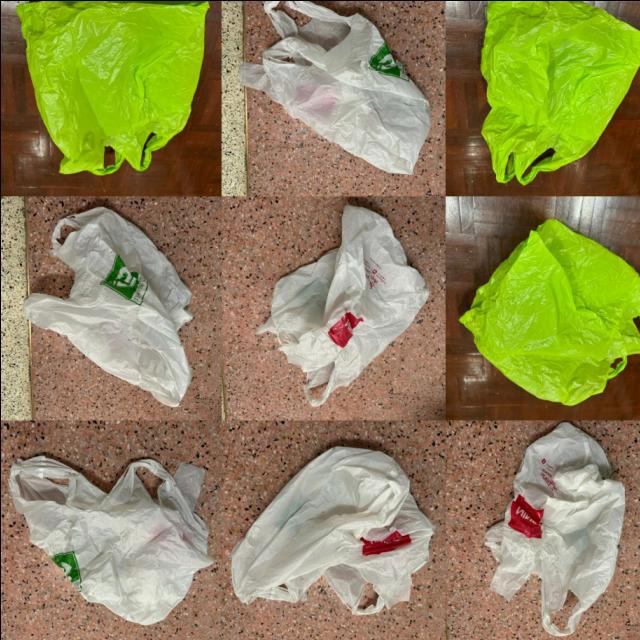plastik: (256, 204, 427, 406), (10, 454, 212, 624), (459, 218, 640, 405), (232, 446, 434, 613), (23, 206, 191, 406), (16, 0, 208, 173), (238, 0, 428, 173), (485, 422, 624, 636), (480, 0, 640, 184)
